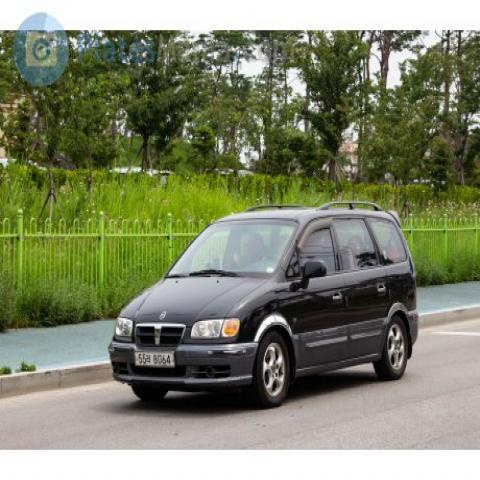LP: (128, 345, 184, 375)
